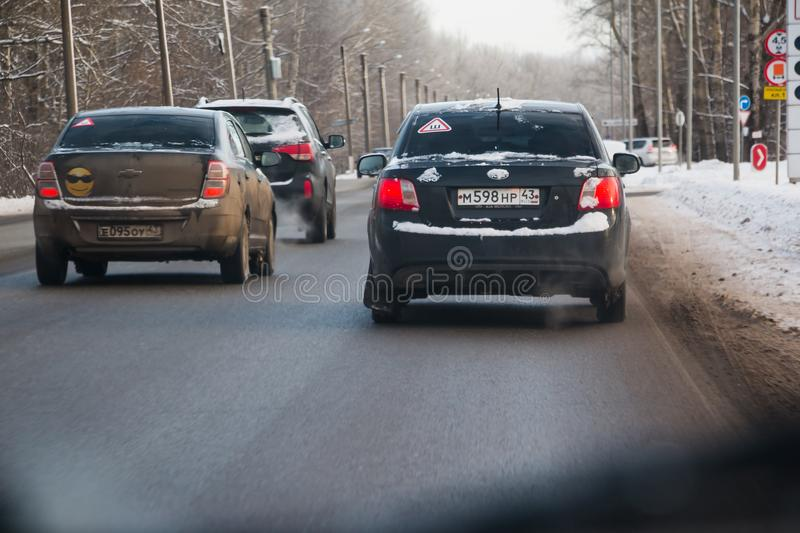licence-plate: (458, 190, 542, 208), (97, 222, 163, 240)
